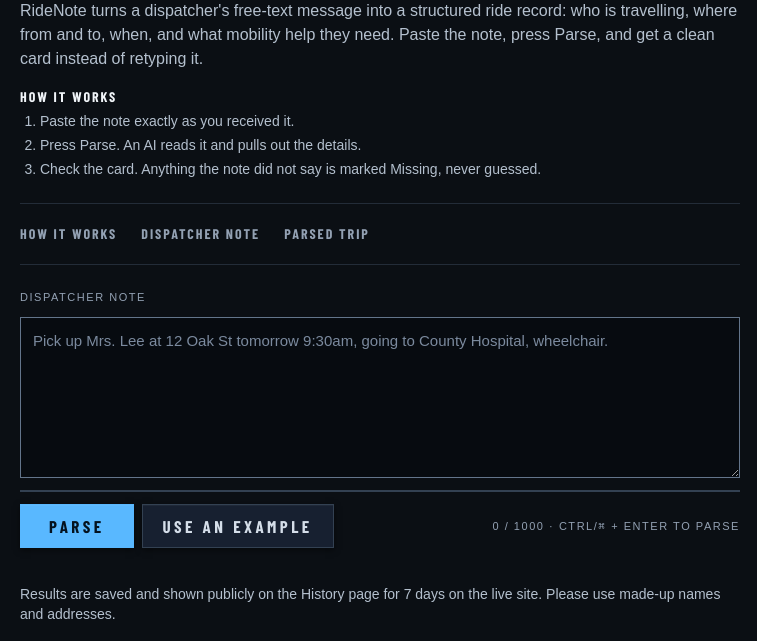
Test: accessibility (axe) › home page, showing a server error
Click the button "Use an example". click: (238, 526)
box: [142,504,334,548]
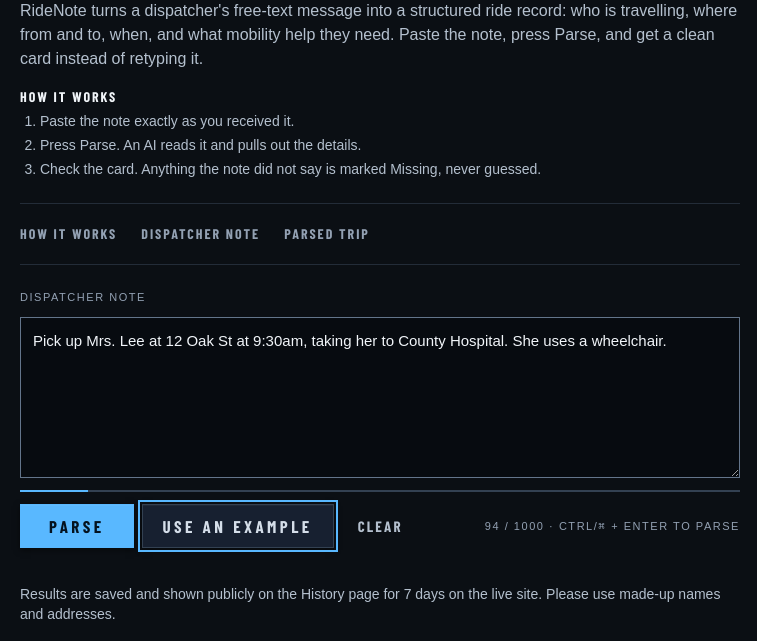
Click the button "Parse". click: (77, 526)
box: [20,504,134,548]
(page scrolled)
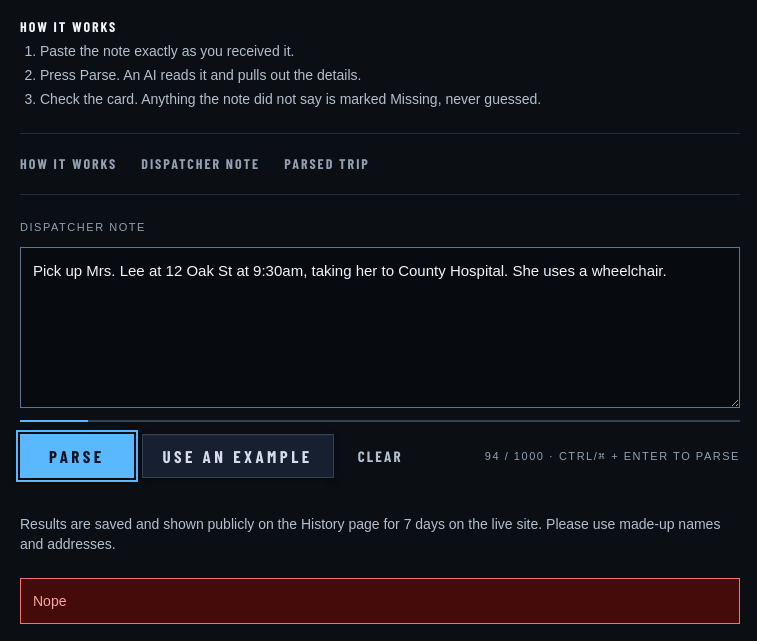
expect the message "Nope" is shown: met, box [20,578,740,624]
